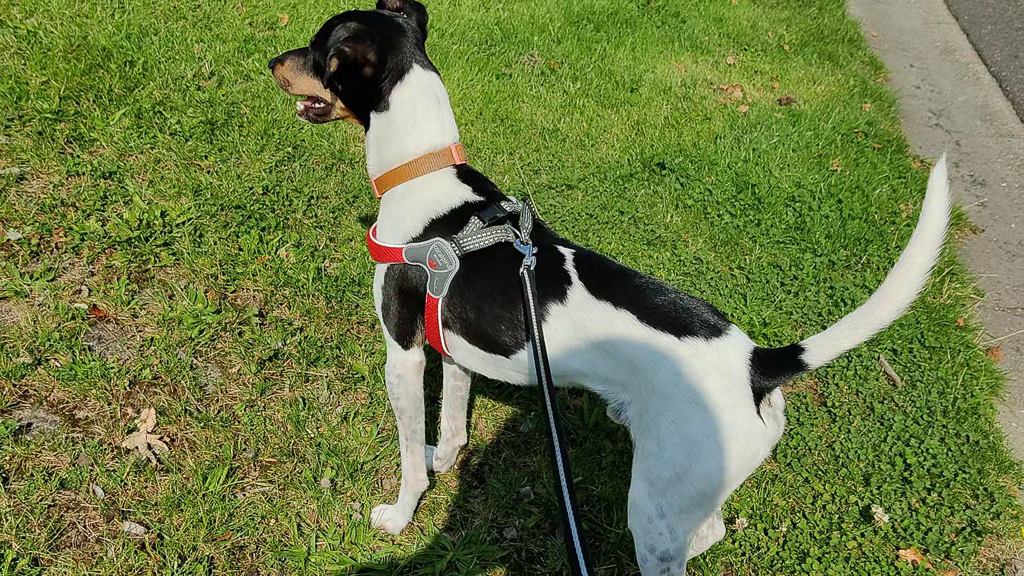Dog: (251, 0, 962, 576)
